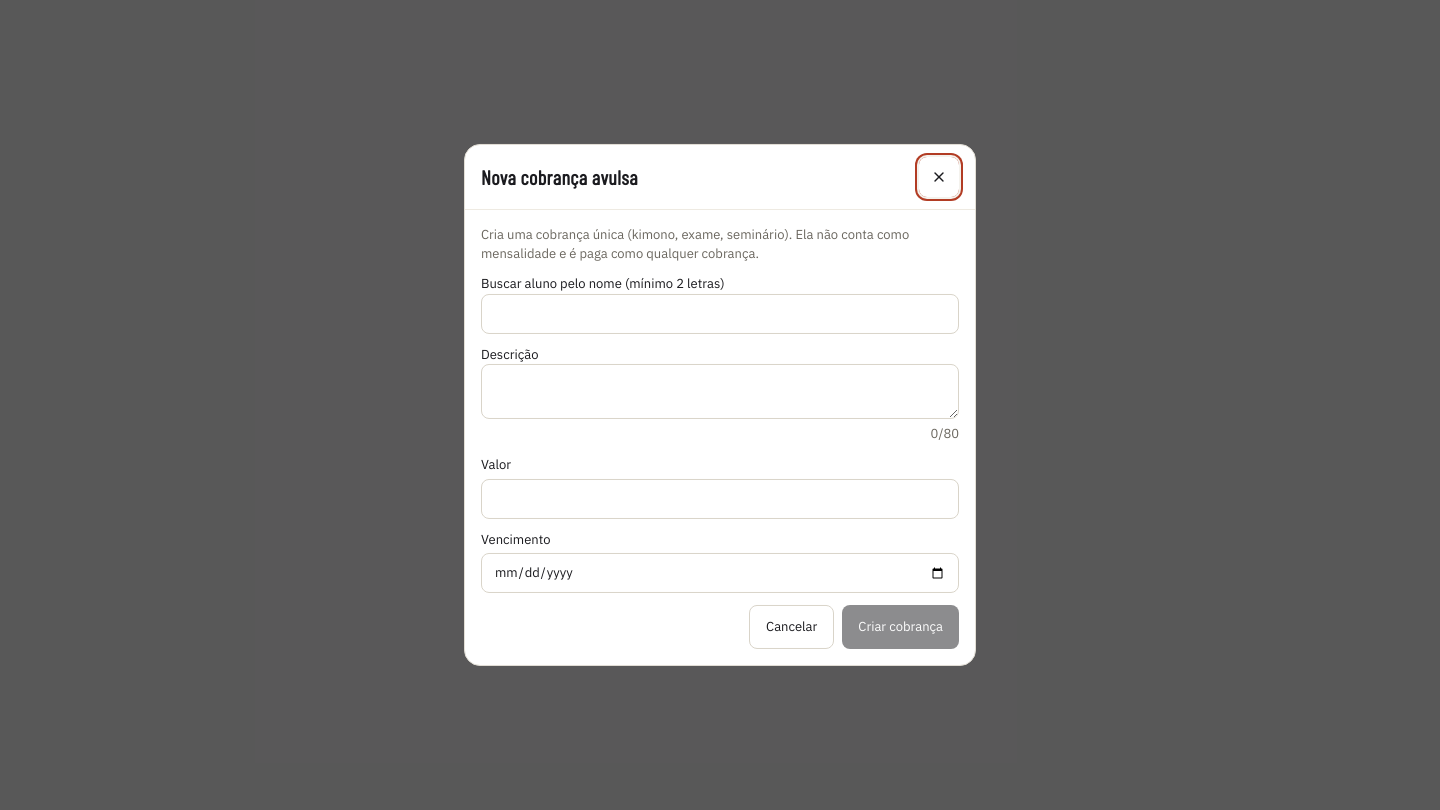
janela Nova cobrança avulsa (RN-COB-11, CA11, CA12, CA15) › erro 422 aparece em texto, a janela continua aberta e os dados ficam
This screenshot has width=1440, height=810.
Type "mar" into the field labelled "Buscar aluno pelo nome (mínimo 2 letras)" at (720, 314), box [481,294,959,334]
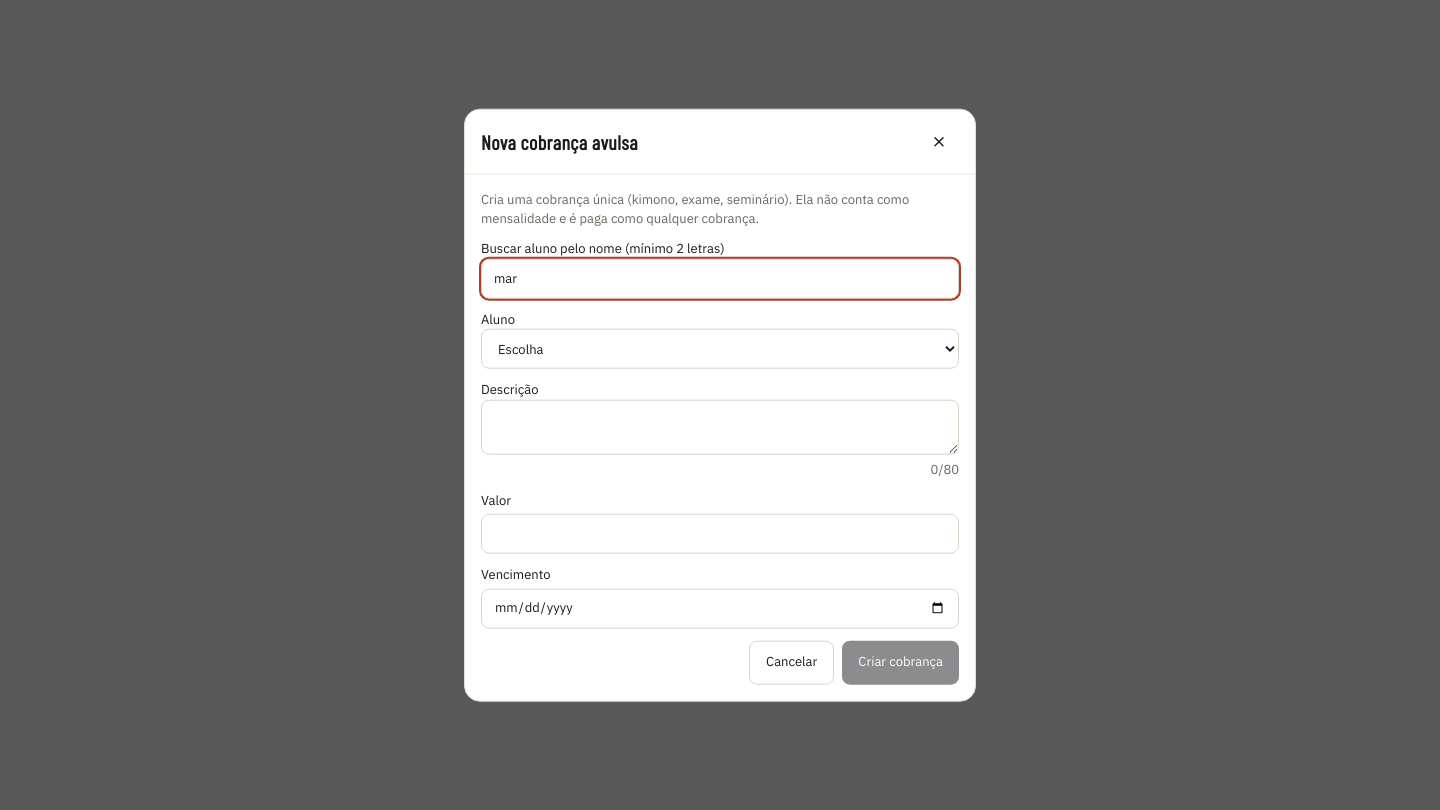
Select "Maria Lima" in the dropdown labelled "Aluno" at (720, 349), box [481,329,959,369]
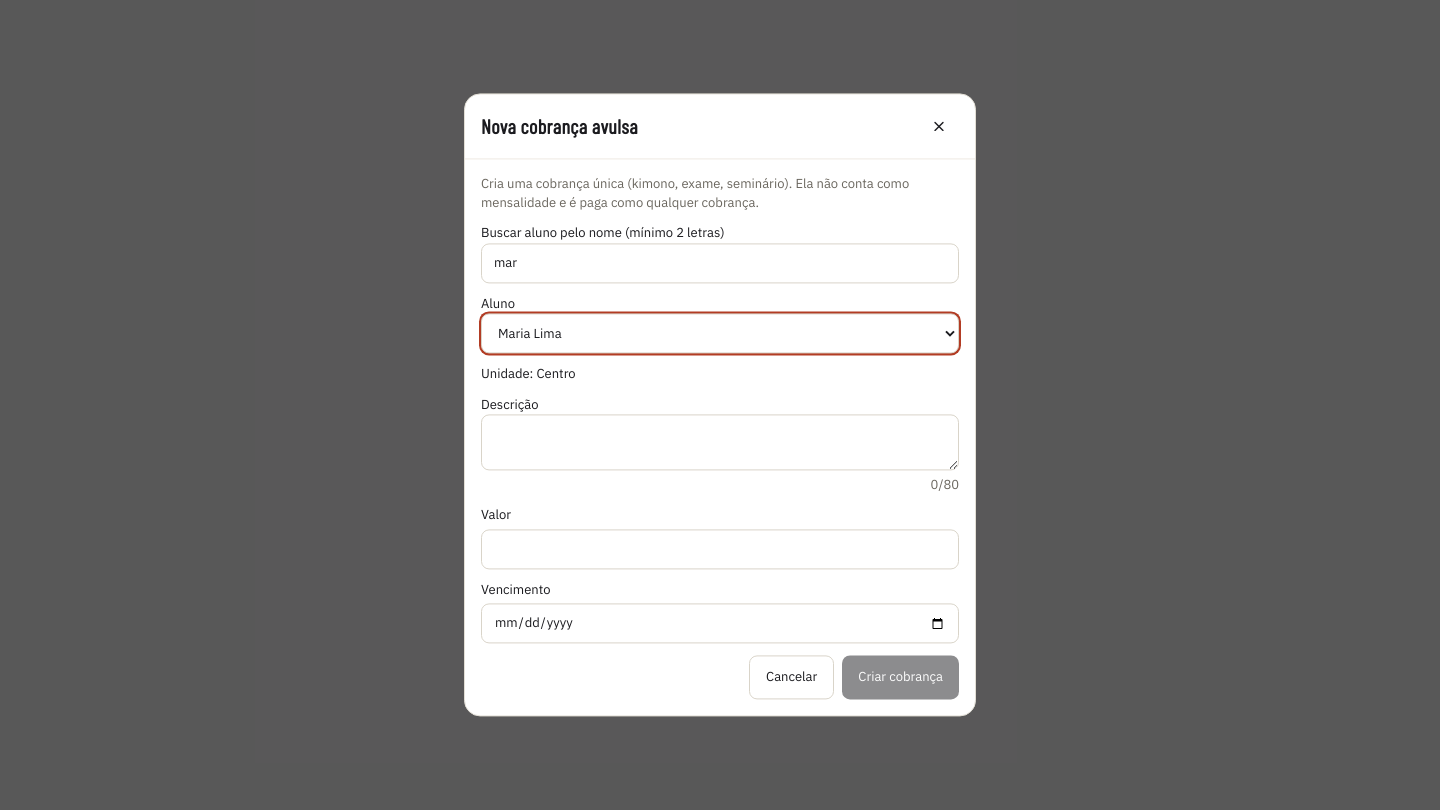
Now the text "Unidade: Centro" is shown, box [481,366,576,383]
Type "Kimono A2" into the text box labelled "Descrição" at (720, 442), box [481,415,959,470]
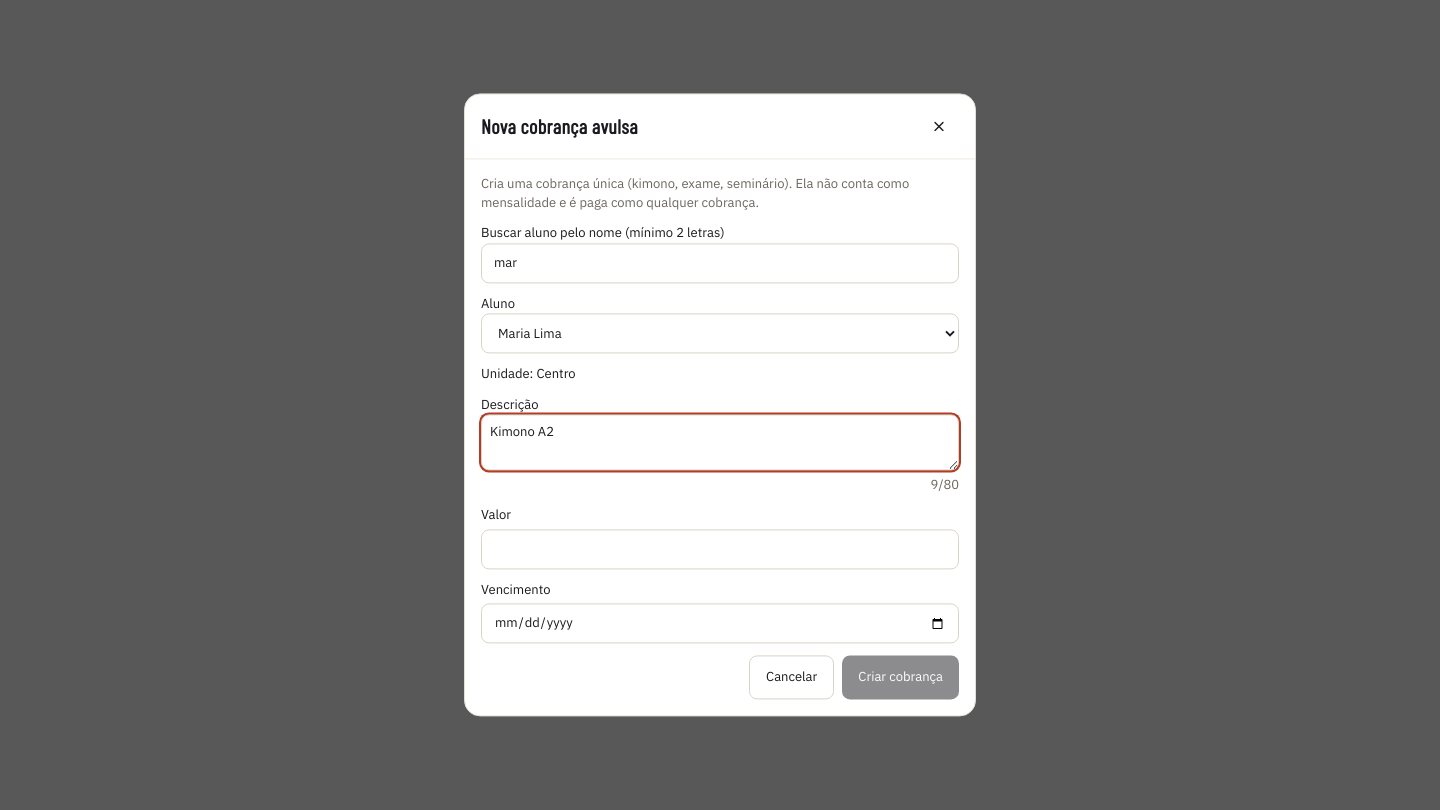
Type "25000" into the field labelled "Valor" at (720, 549), box [481,529,959,569]
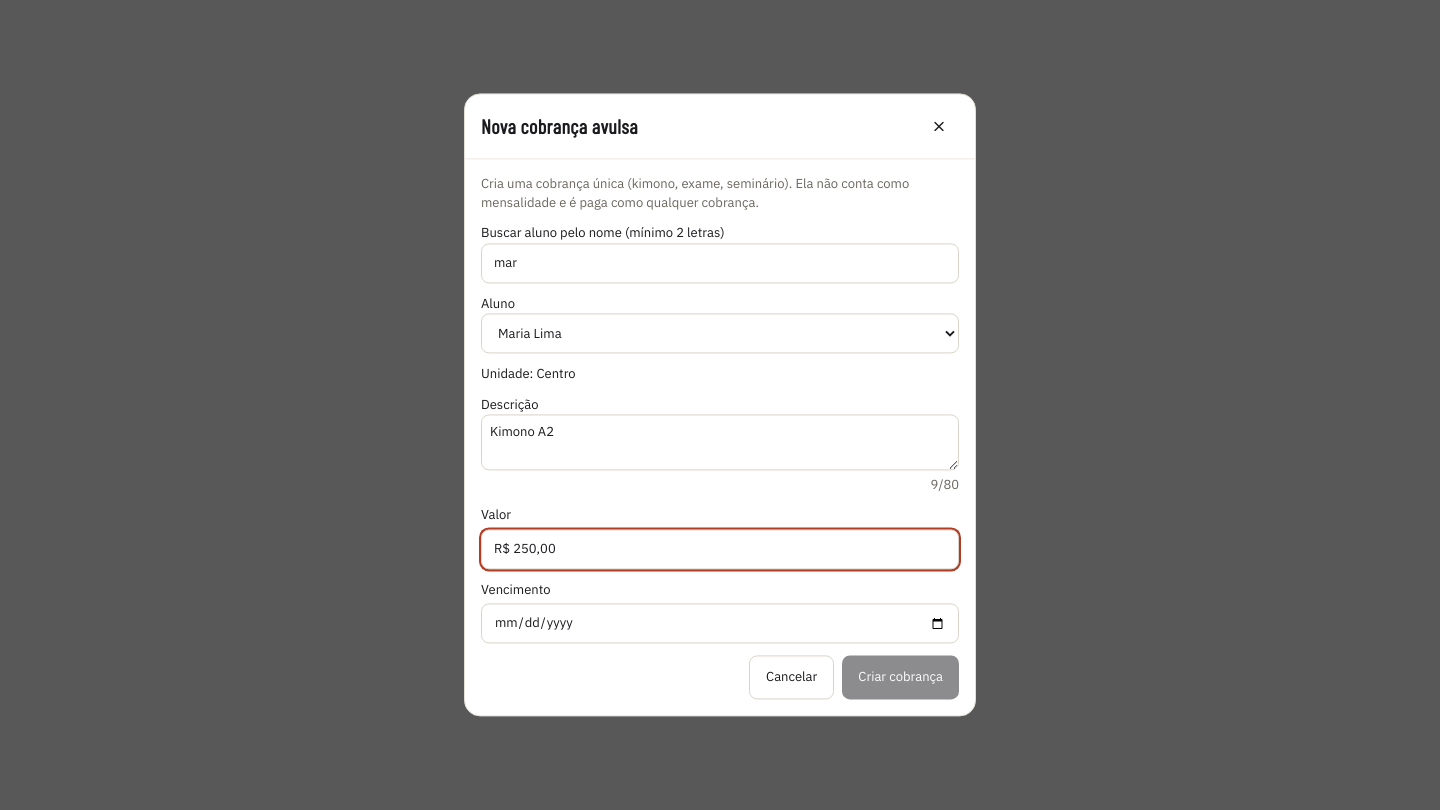
Type "2099-01-10" into the date field labelled "Vencimento" at (720, 624), box [481,604,959,644]
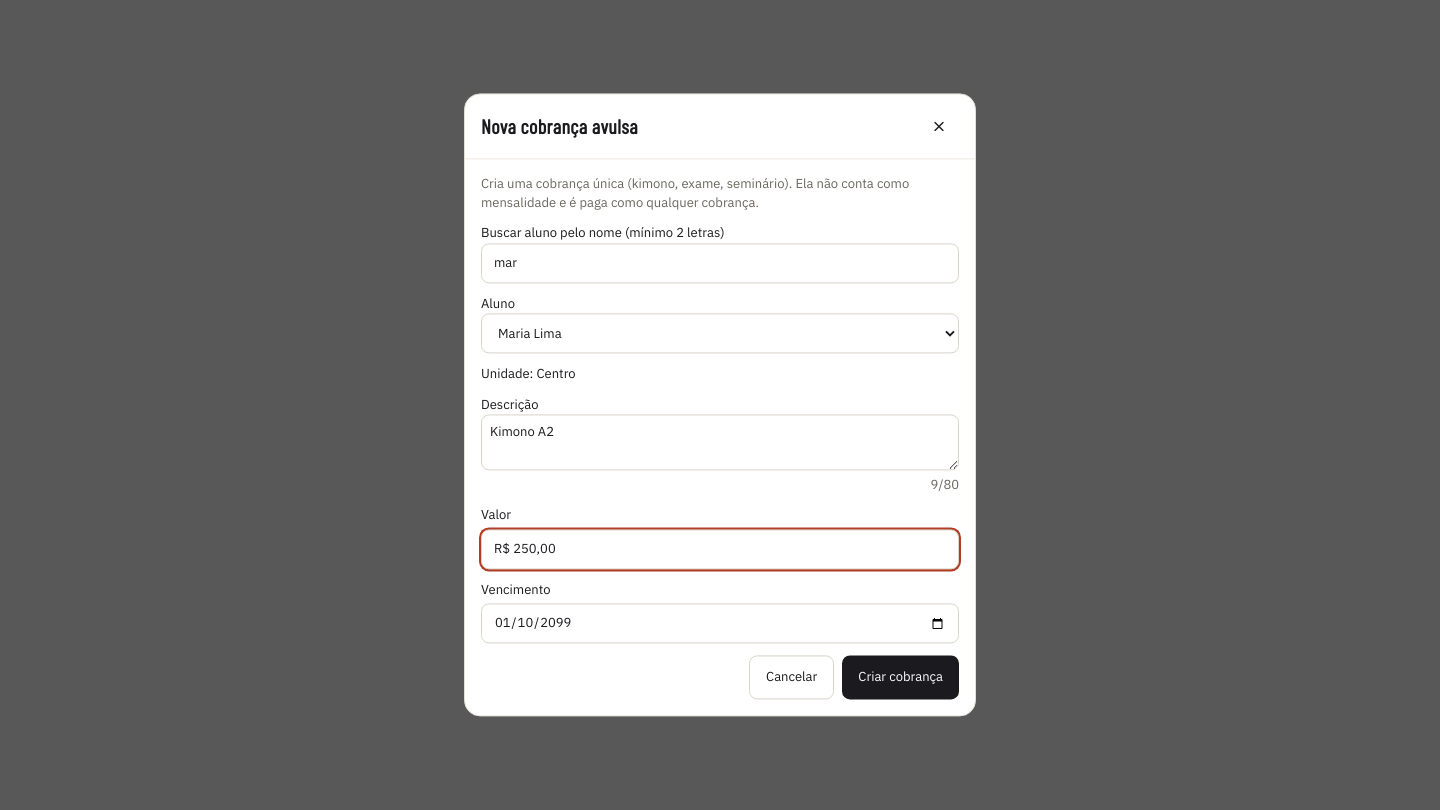
Click the button "Criar cobrança" at (901, 678), box [842,656,959,700]
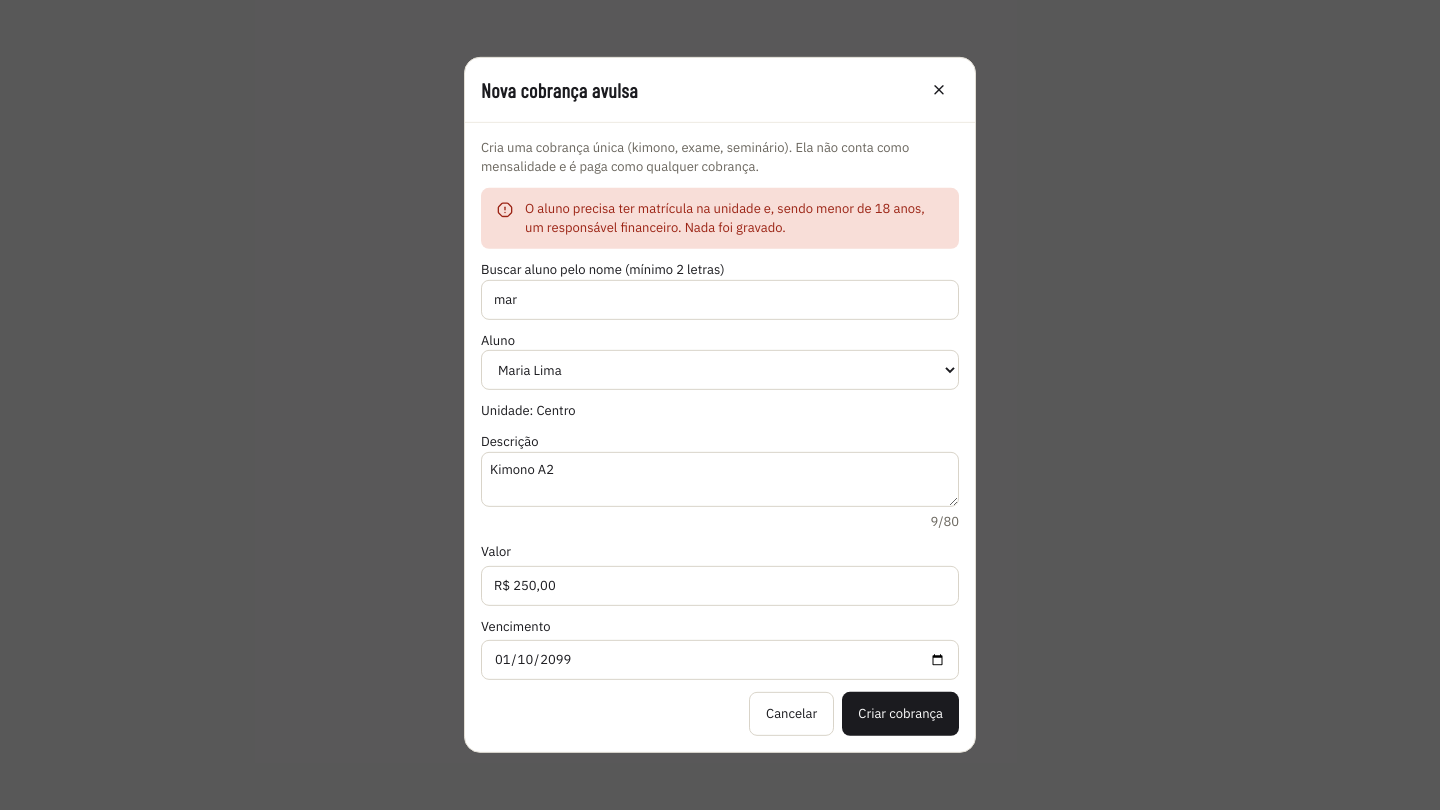
Now the field labelled "Valor" holds "R$ 250,00", box [481,566,959,606]
Now the message shows "O aluno precisa ter matrícula na unidade", box [525,200,925,236]
